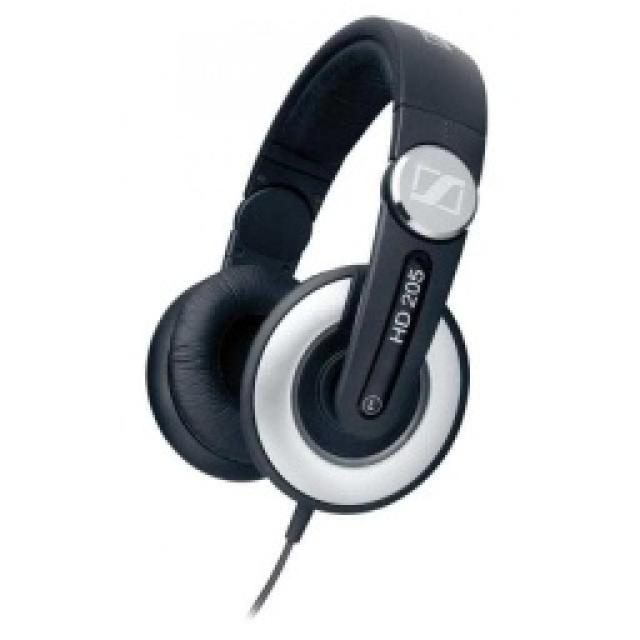headphones: (142, 13, 490, 515)
